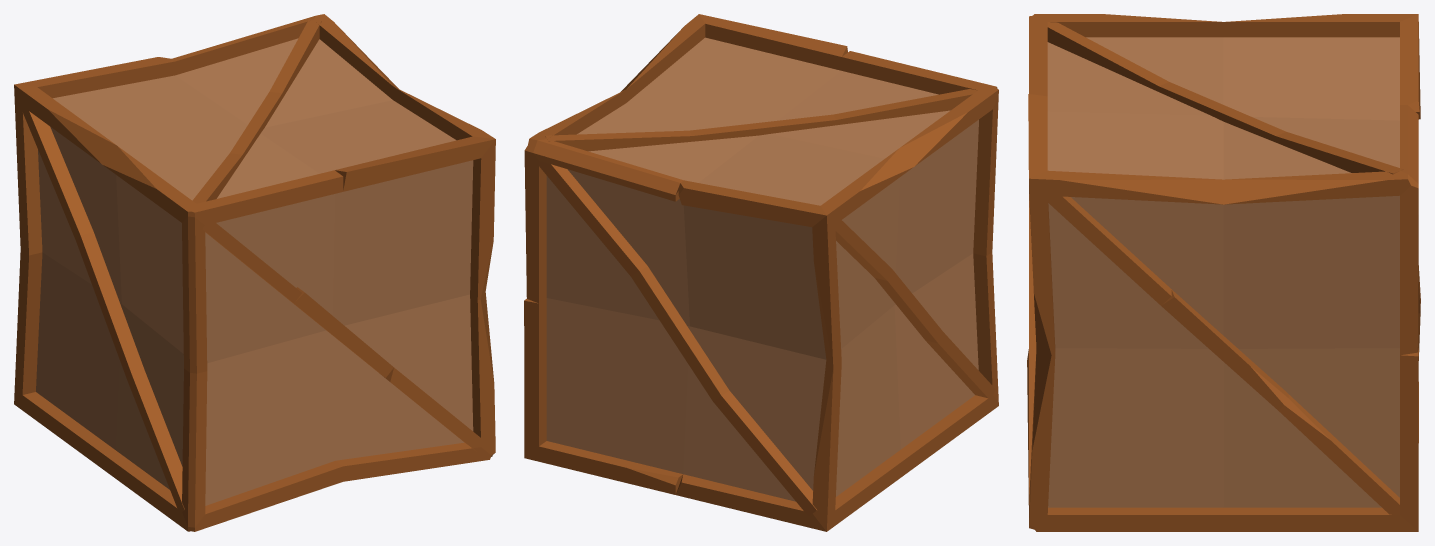
3 views of the same model, side by side, from view 1: azimuth 30°, elevation 25°; view 2: azimuth 150°, elevation 25°; view 3: azimuth 270°, elevation 25° (orthographic). The views are drawn at different scales.
Parts seen in each view (by area): view 1: M_Box; view 2: M_Box; view 3: M_Box.
Boxes of the visible parts, left/top/right/bottom form: M_Box: left=14, top=14, right=495, bottom=531; M_Box: left=524, top=14, right=998, bottom=531; M_Box: left=1027, top=14, right=1420, bottom=531.
Size of the model in its own units: 0.1422 by 0.1437 by 0.1435.
Materials: 1 (1 with a texture image).
